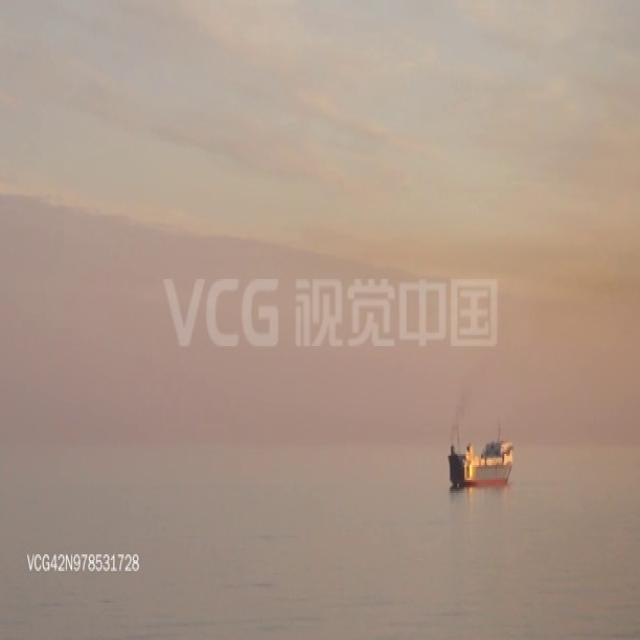cargoship: (446, 424, 516, 489)
